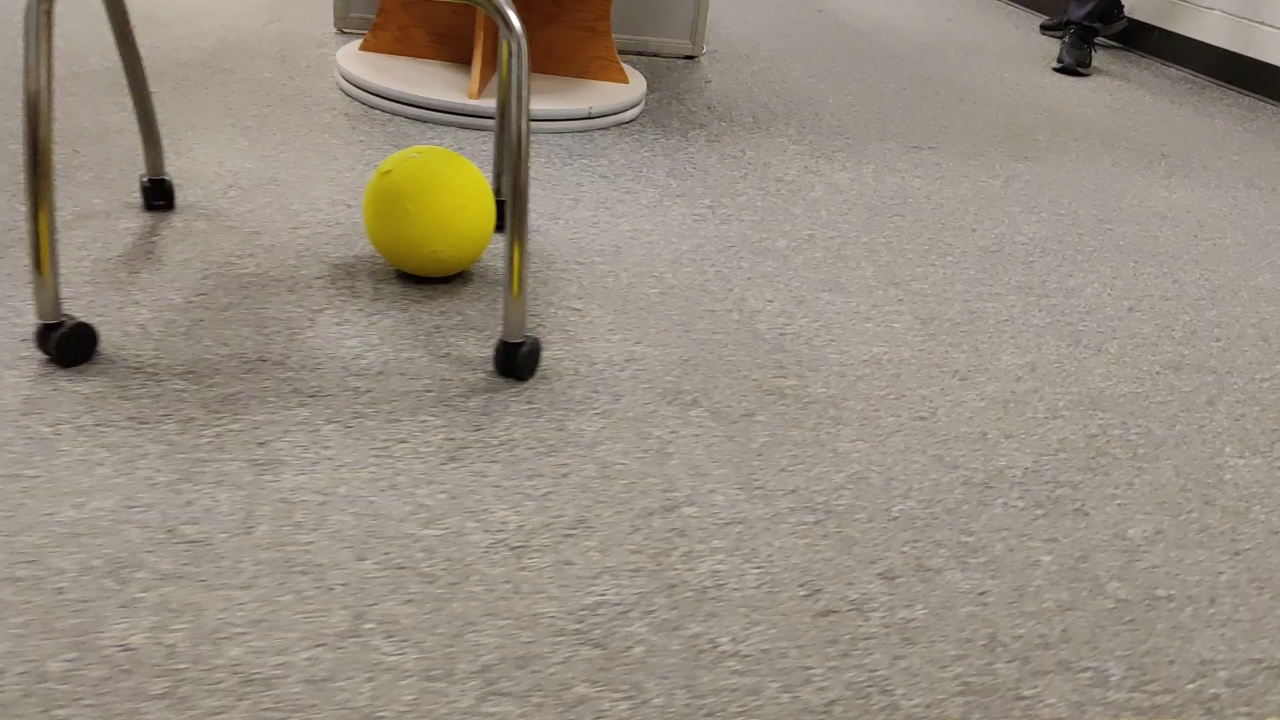Ball: (362, 145, 496, 282)
